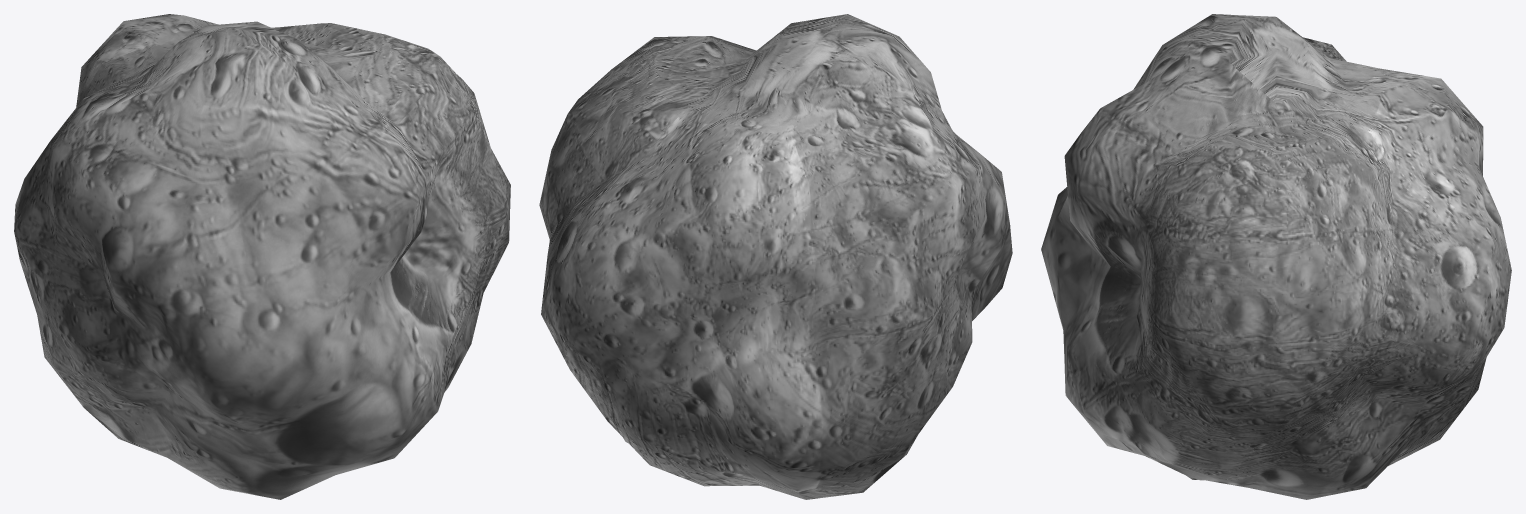
The model's file is asteroid_1.FBX.
The picture shows the model from 3 angles, left to right: view 1: azimuth 30°, elevation 25°; view 2: azimuth 150°, elevation 25°; view 3: azimuth 270°, elevation 25°; orthographic projection. The views are drawn at different scales.
Parts seen in each view (by area): view 1: GeoSphere001; view 2: GeoSphere001; view 3: GeoSphere001.
Boxes of the visible parts, <box> form: GeoSphere001: <box>14,14,510,499</box>; GeoSphere001: <box>539,14,1012,499</box>; GeoSphere001: <box>1041,14,1511,499</box>.
Size of the model in its own units: 2.22 by 2.3 by 2.22.
Materials: 1 (1 with a texture image).
